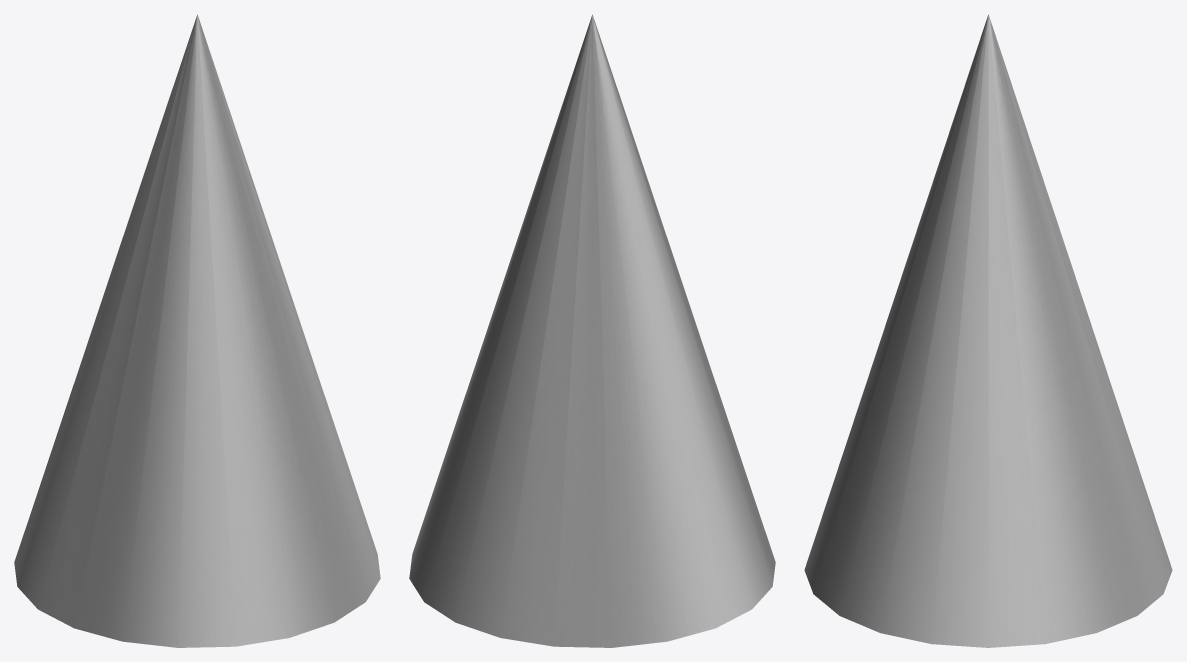
Rendered from spike_loely.FBX.
3 renders of one model, left to right at view 1: azimuth 30°, elevation 25°; view 2: azimuth 150°, elevation 25°; view 3: azimuth 270°, elevation 25°, orthographic.
Visible parts, largest first — view 1: Cone031; view 2: Cone031; view 3: Cone031.
Boxes of the visible parts, box(x1,y1,x2,y2) form: Cone031: box(14, 14, 380, 647); Cone031: box(409, 14, 775, 647); Cone031: box(804, 14, 1172, 647).
Bounding box in the file's own units: 0.3 × 0.3 × 0.5.
